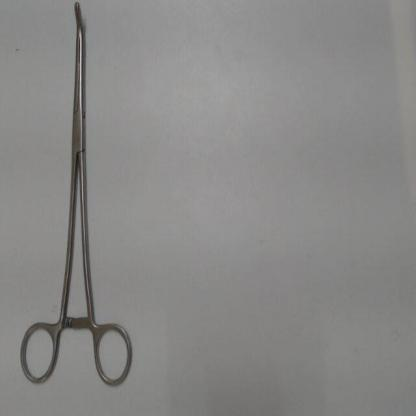Lahey Forceps: (10, 2, 141, 393)
